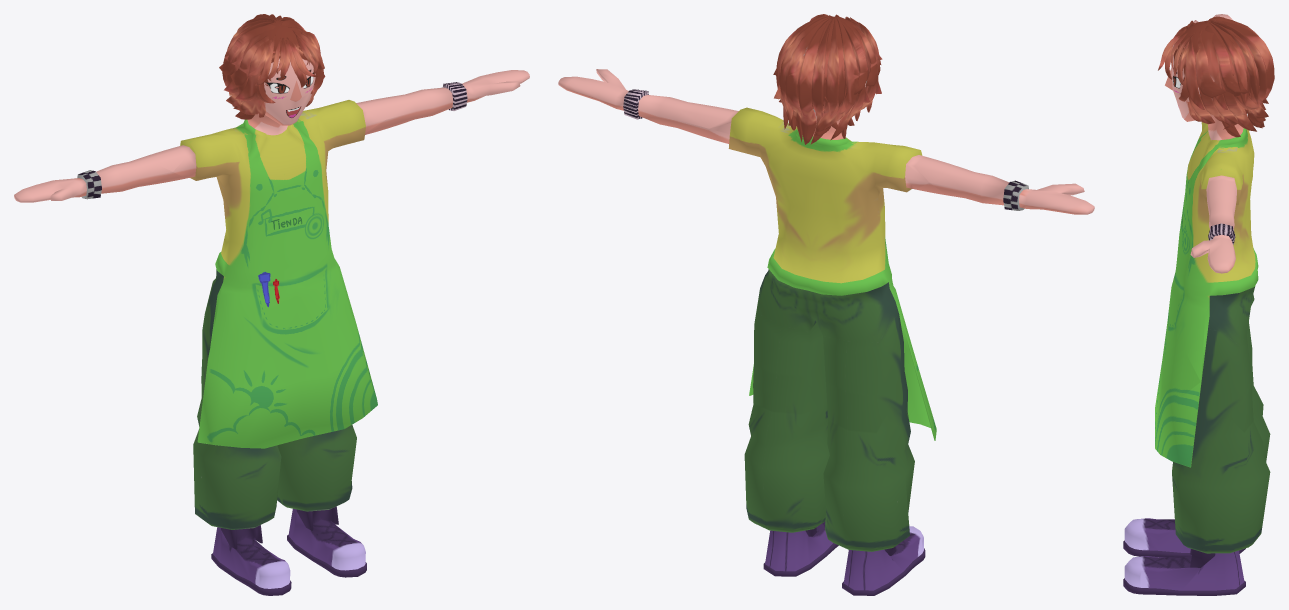
The model's file is Uni.glb.
3 views of the same model, side by side, from view 1: azimuth 30°, elevation 25°; view 2: azimuth 150°, elevation 25°; view 3: azimuth 270°, elevation 25° (orthographic). The views are drawn at different scales.
Visible parts, largest first — view 1: Cuerpo; view 2: Cuerpo; view 3: Cuerpo.
Boxes of the visible parts, x1,y1,x2,y2 form: Cuerpo: (14, 14, 529, 595); Cuerpo: (558, 14, 1094, 595); Cuerpo: (1123, 14, 1274, 595).
Bounding box in the file's own units: 14.31 × 14.31 × 3.59.
Materials: 1 (1 with a texture image).
